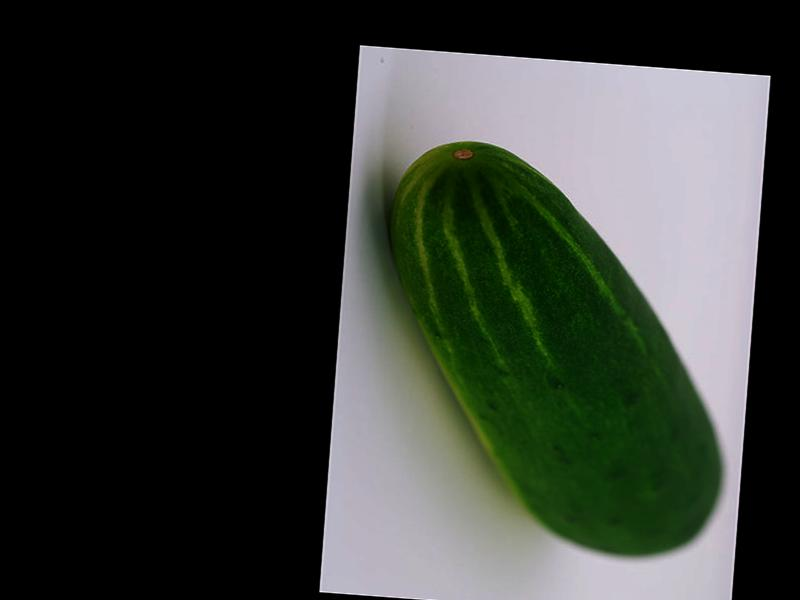Cucumber: (367, 136, 745, 562)
